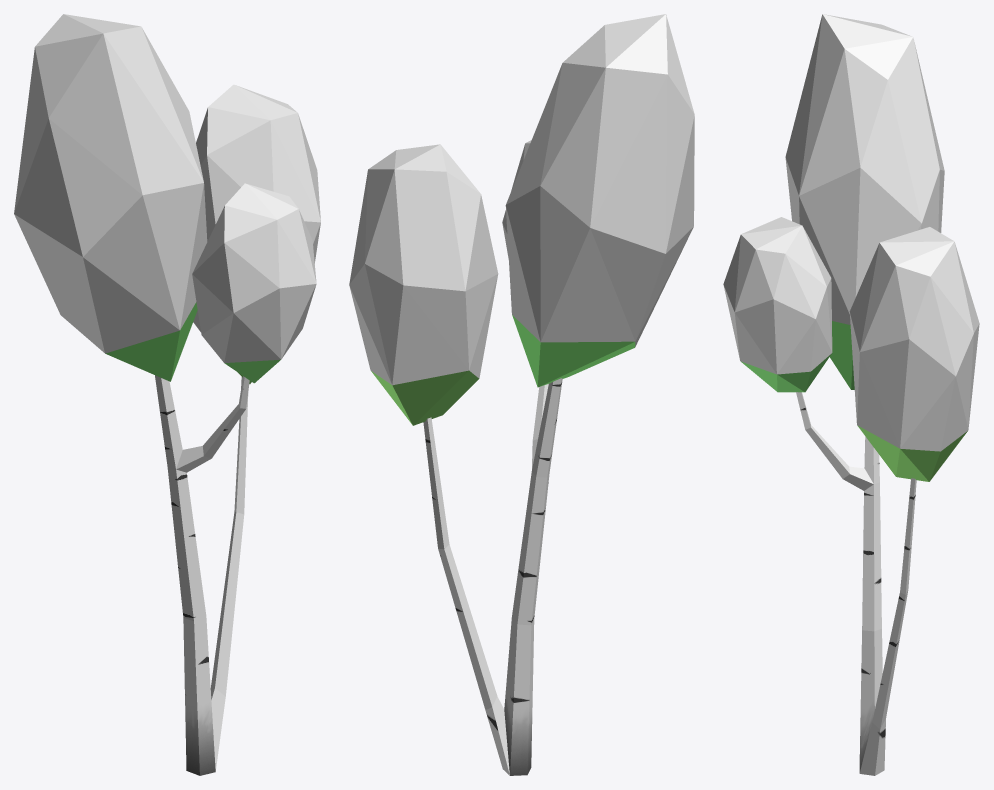
The model's file is Birch_Tree_m_Snow_06_LOD.fbx.
The picture shows the model from 3 angles, left to right: view 1: azimuth 30°, elevation 25°; view 2: azimuth 150°, elevation 25°; view 3: azimuth 270°, elevation 25°; orthographic projection. The views are drawn at different scales.
Parts seen in each view (by area): view 1: Birch_Tree_m_Snow_06_LOD0; view 2: Birch_Tree_m_Snow_06_LOD0; view 3: Birch_Tree_m_Snow_06_LOD0.
Part boxes in pixels (x1,y1,x2,y2): Birch_Tree_m_Snow_06_LOD0: (14,14,320,775); Birch_Tree_m_Snow_06_LOD0: (349,14,694,775); Birch_Tree_m_Snow_06_LOD0: (723,14,979,775).
Size of what is drawn, in the model's own units: 291 by 712 by 236.
